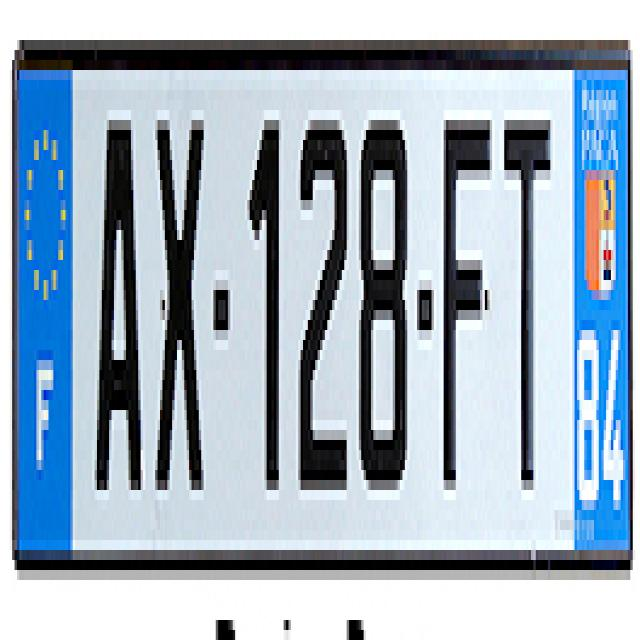EU: (15, 43, 634, 572)
France: (18, 53, 71, 551)
